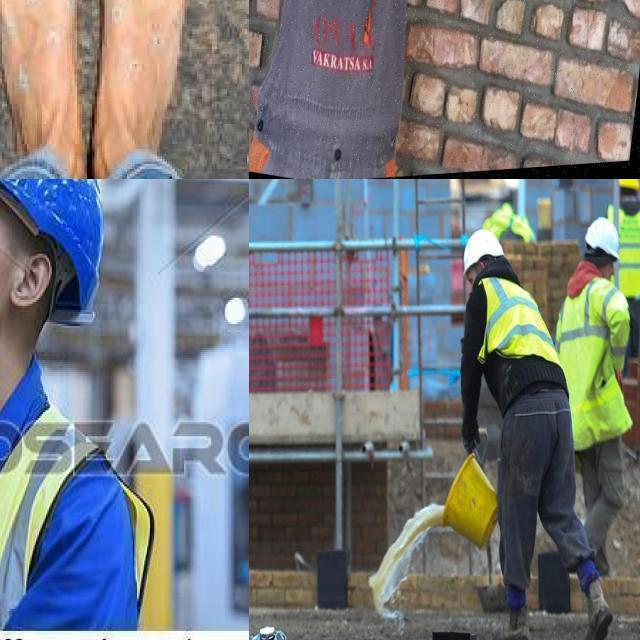Barefoots: (93, 0, 200, 179), (0, 0, 88, 179)
No_Ear-Protection: (10, 247, 54, 310)
face_nomask: (0, 183, 26, 351)
hand_glove: (458, 416, 486, 463)
head_helmet: (0, 179, 97, 333), (456, 218, 510, 268), (583, 210, 621, 261), (615, 179, 640, 191)
person: (0, 179, 172, 640), (449, 219, 578, 622), (550, 195, 626, 583), (599, 179, 640, 429)
shoes: (578, 578, 614, 640), (489, 595, 532, 640)
vest: (0, 378, 164, 629), (554, 274, 638, 457), (466, 266, 562, 396), (606, 209, 640, 295)
